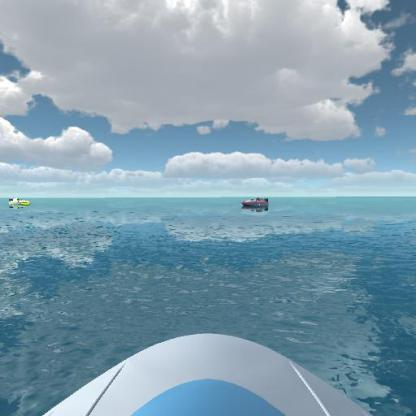usv2: (6, 194, 33, 211)
usv3: (240, 193, 272, 214)
